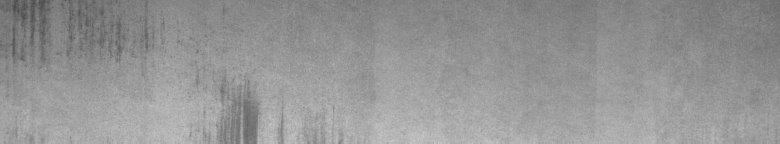ka: (6, 4, 148, 61)
